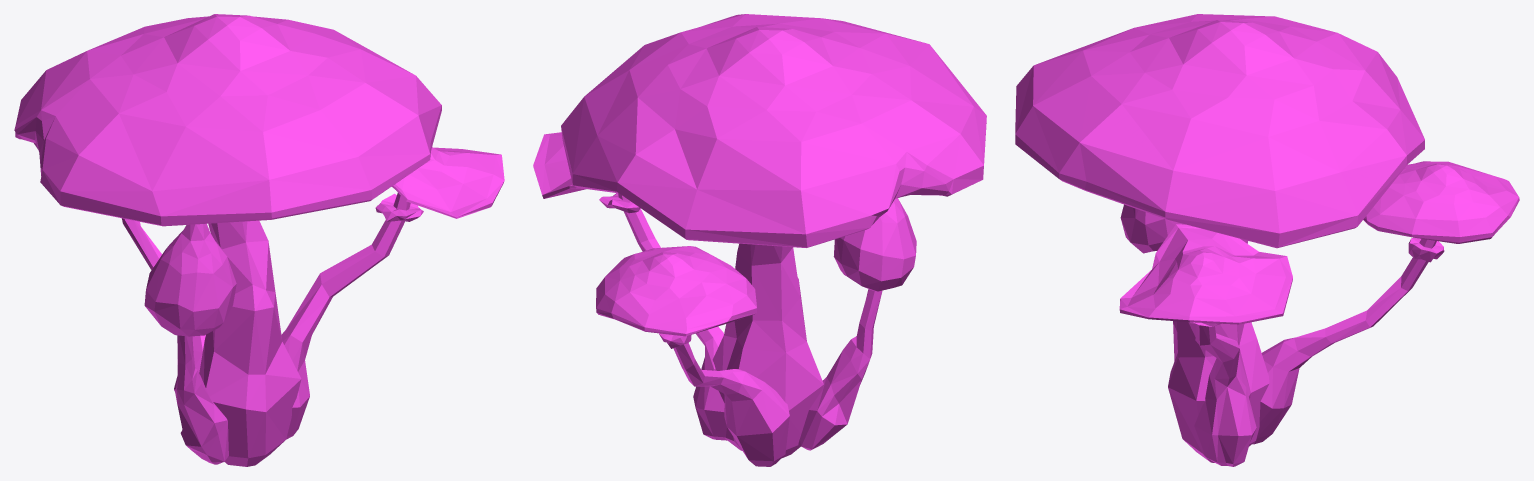
File: SM_Mushroom_Slim_Big_B_Fantasy.fbx
3 views of the same model, side by side, from view 1: azimuth 30°, elevation 25°; view 2: azimuth 150°, elevation 25°; view 3: azimuth 270°, elevation 25° (orthographic). The views are drawn at different scales.
Visible parts, largest first — view 1: SM_Mushroom_Slim_Big_B_Fantasy; view 2: SM_Mushroom_Slim_Big_B_Fantasy; view 3: SM_Mushroom_Slim_Big_B_Fantasy.
Part boxes in pixels (box(x1,y1,x2,y2)): SM_Mushroom_Slim_Big_B_Fantasy: box(14, 14, 504, 466); SM_Mushroom_Slim_Big_B_Fantasy: box(533, 14, 986, 466); SM_Mushroom_Slim_Big_B_Fantasy: box(1015, 14, 1519, 466).
Bounding box in the file's own units: 3.63 × 3.39 × 3.67.
